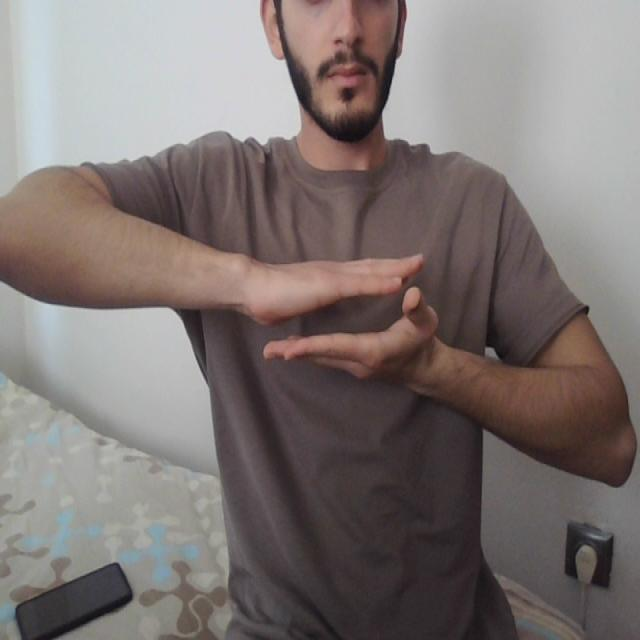Arkadas: (142, 232, 587, 410)
